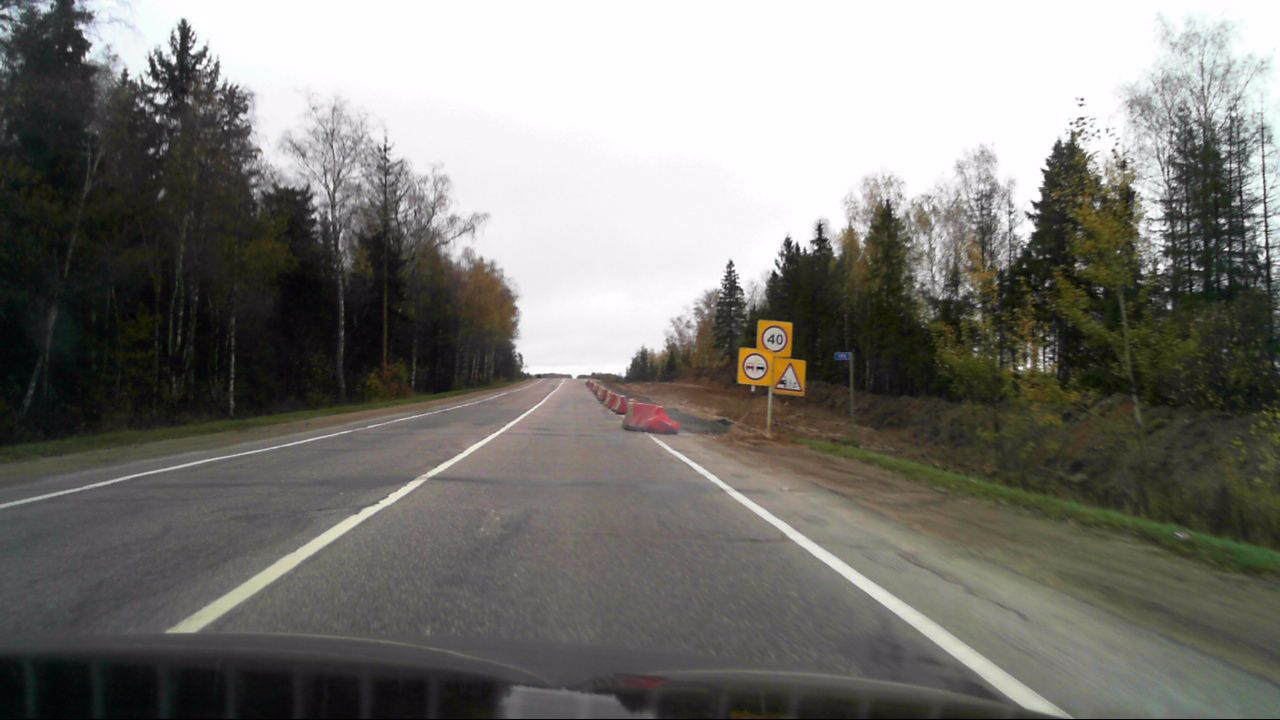speed_warning_40: (757, 320, 793, 358)
